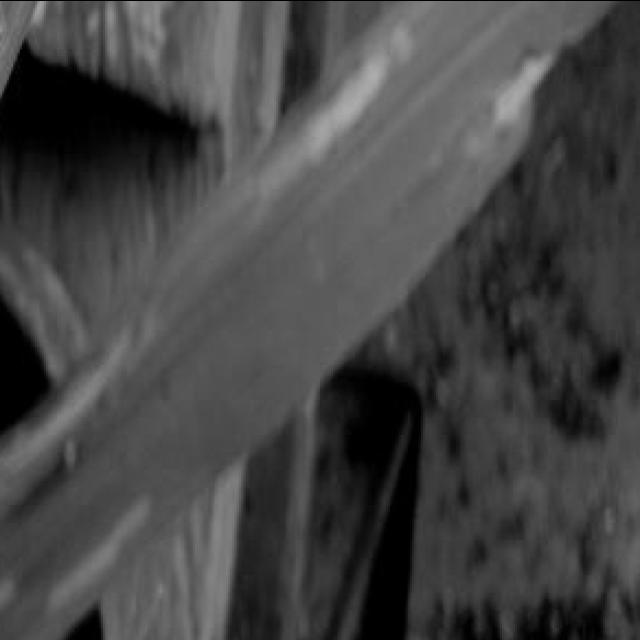Leaf_Blast: (384, 38, 572, 268), (219, 31, 421, 219), (0, 309, 158, 500), (27, 497, 166, 627)
